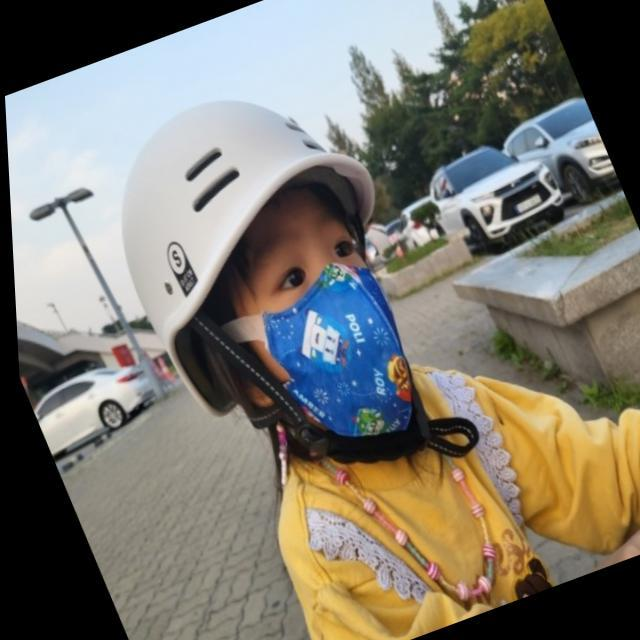Helmet: (113, 96, 419, 451)
